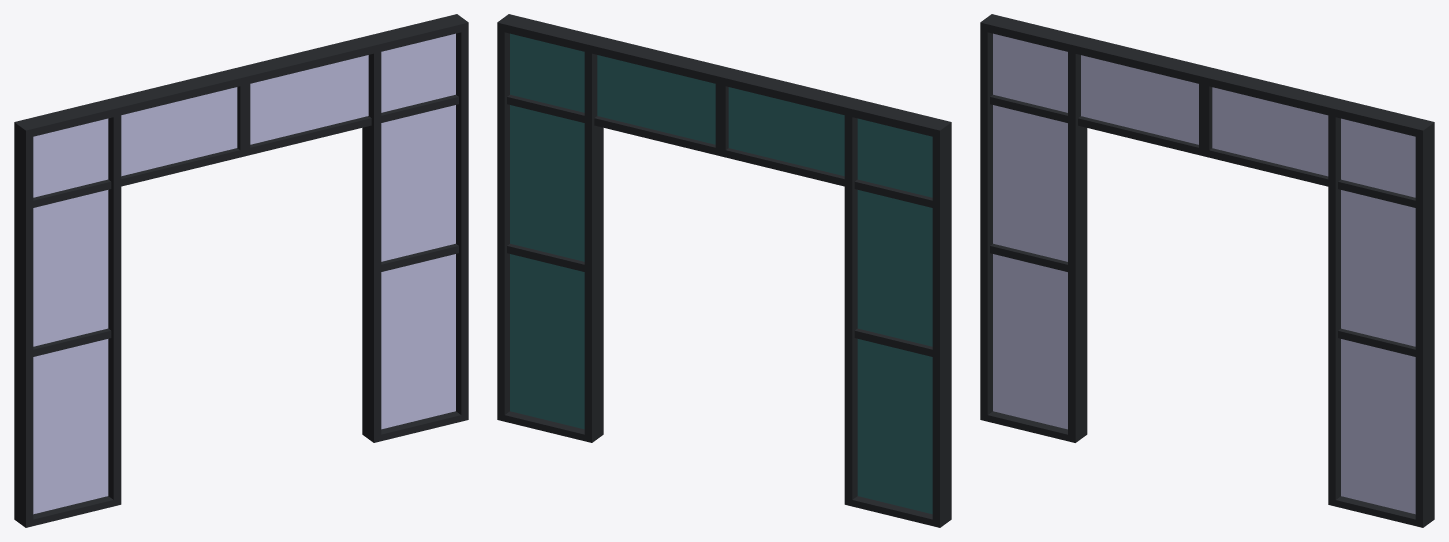
The model's file is M_Window350x300White20-2.FBX.
The picture shows the model from 3 angles, left to right: view 1: azimuth 30°, elevation 25°; view 2: azimuth 150°, elevation 25°; view 3: azimuth 330°, elevation 25°; orthographic projection.
Parts seen in each view (by area): view 1: M_Window350x300White20-2; view 2: M_Window350x300White20-2; view 3: M_Window350x300White20-2.
Boxes of the visible parts, x1,y1,x2,y2 form: M_Window350x300White20-2: (14, 14, 468, 527); M_Window350x300White20-2: (497, 14, 951, 527); M_Window350x300White20-2: (980, 14, 1434, 527).
Size of what is drawn, in the model's own units: 3.5 by 3 by 0.1598.
